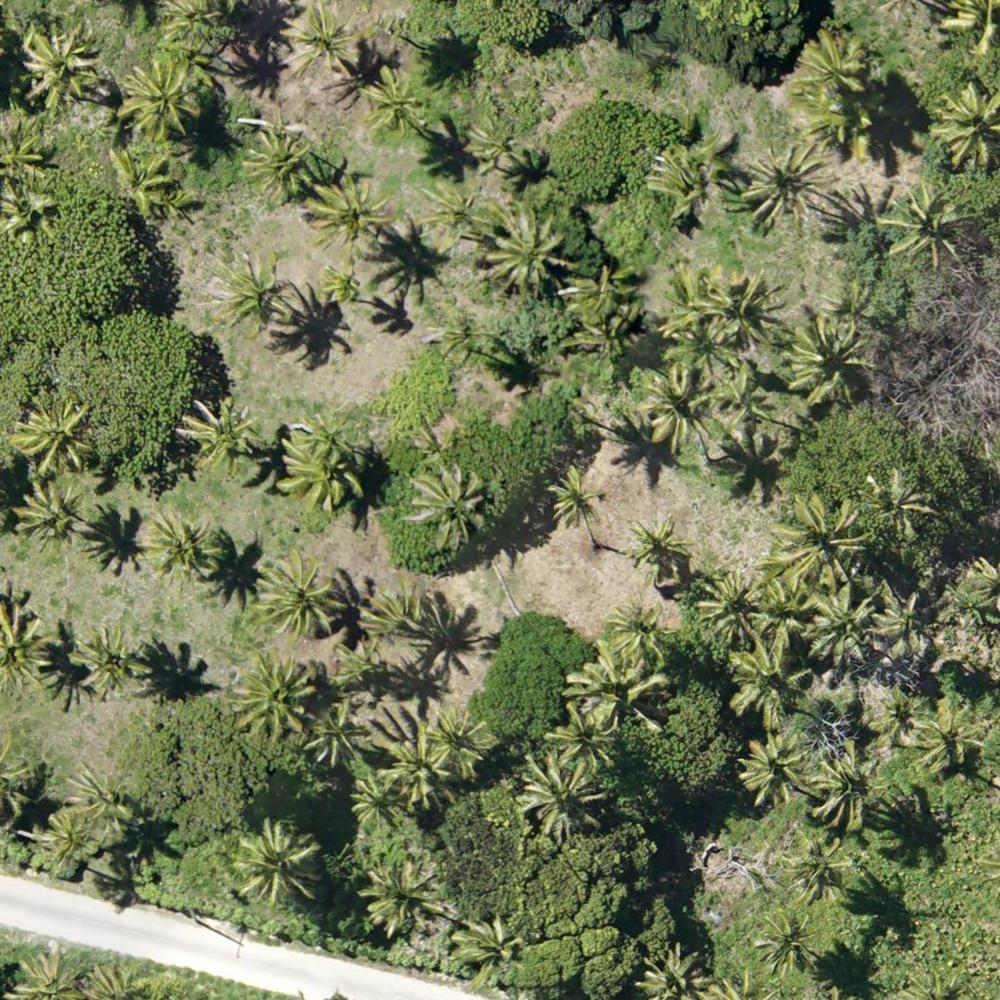Palm: (767, 498, 867, 585), (746, 142, 841, 229), (237, 817, 320, 914), (484, 207, 572, 293), (882, 179, 973, 261), (790, 321, 876, 405), (261, 550, 343, 638), (572, 644, 658, 725), (520, 757, 607, 836), (228, 659, 311, 741), (730, 639, 806, 727), (15, 395, 98, 475), (792, 32, 873, 113), (279, 424, 361, 504), (449, 909, 533, 985), (802, 758, 881, 838), (912, 704, 990, 785), (24, 26, 100, 109), (859, 467, 946, 539), (122, 54, 200, 133), (366, 859, 448, 933), (215, 255, 286, 338), (929, 85, 1000, 168), (78, 619, 150, 700), (103, 143, 185, 214), (646, 364, 718, 443), (309, 175, 388, 246), (408, 471, 488, 541), (738, 729, 808, 809), (784, 833, 862, 904), (412, 179, 489, 250), (715, 266, 784, 345), (146, 513, 220, 586), (69, 761, 141, 835), (391, 731, 457, 811), (702, 567, 772, 642), (869, 588, 937, 665), (425, 707, 496, 780), (180, 397, 251, 469), (243, 127, 318, 195), (362, 66, 430, 140), (11, 482, 83, 549), (753, 911, 820, 980), (289, 7, 357, 74), (806, 589, 868, 661), (626, 515, 691, 577), (600, 601, 672, 656), (551, 707, 616, 766), (306, 699, 362, 767), (349, 769, 408, 833), (720, 364, 778, 429), (754, 578, 812, 642), (549, 467, 604, 528), (469, 112, 523, 167), (319, 259, 364, 306)
